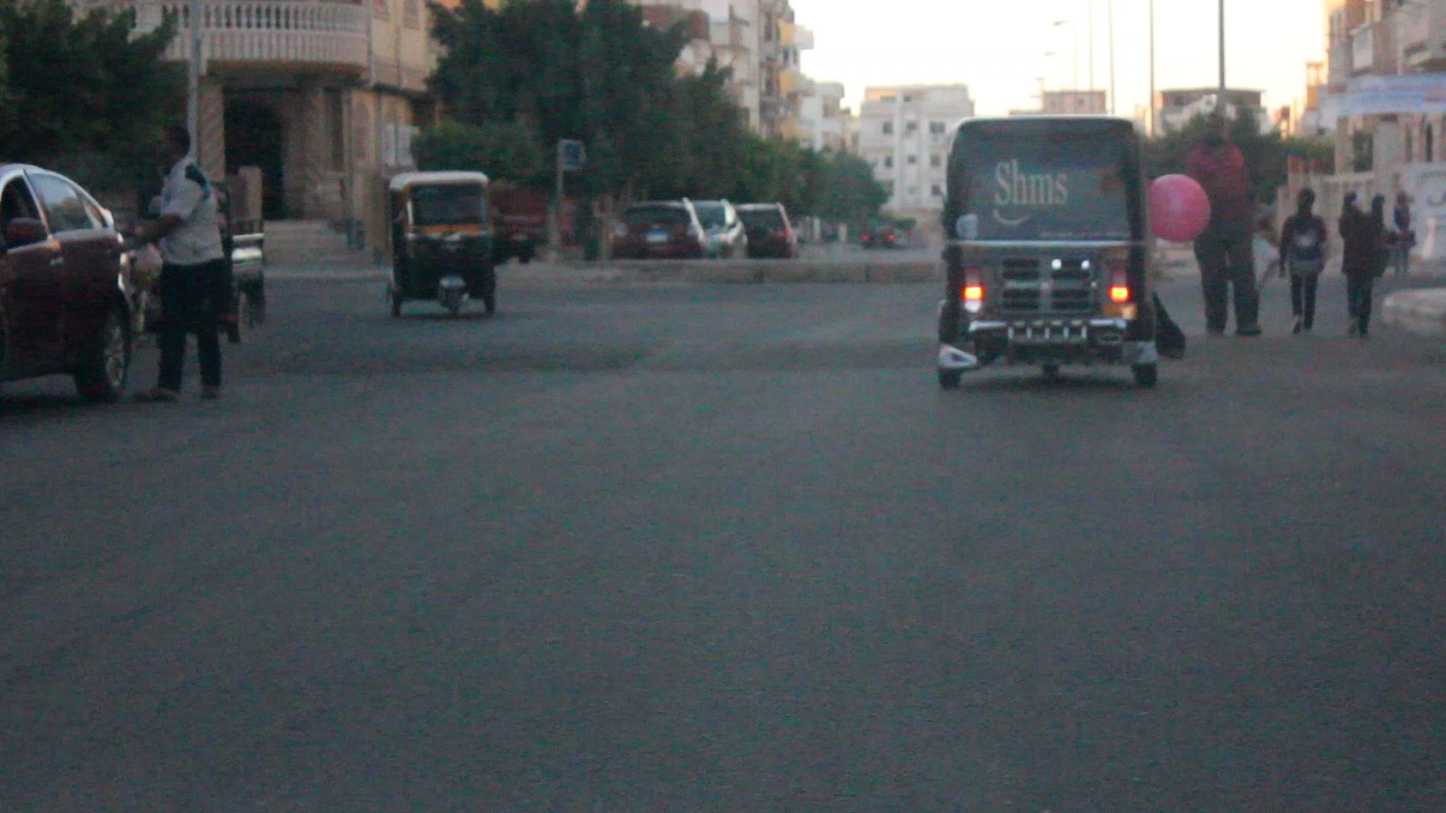Bump: (226, 313, 944, 381), (1177, 332, 1445, 391)
